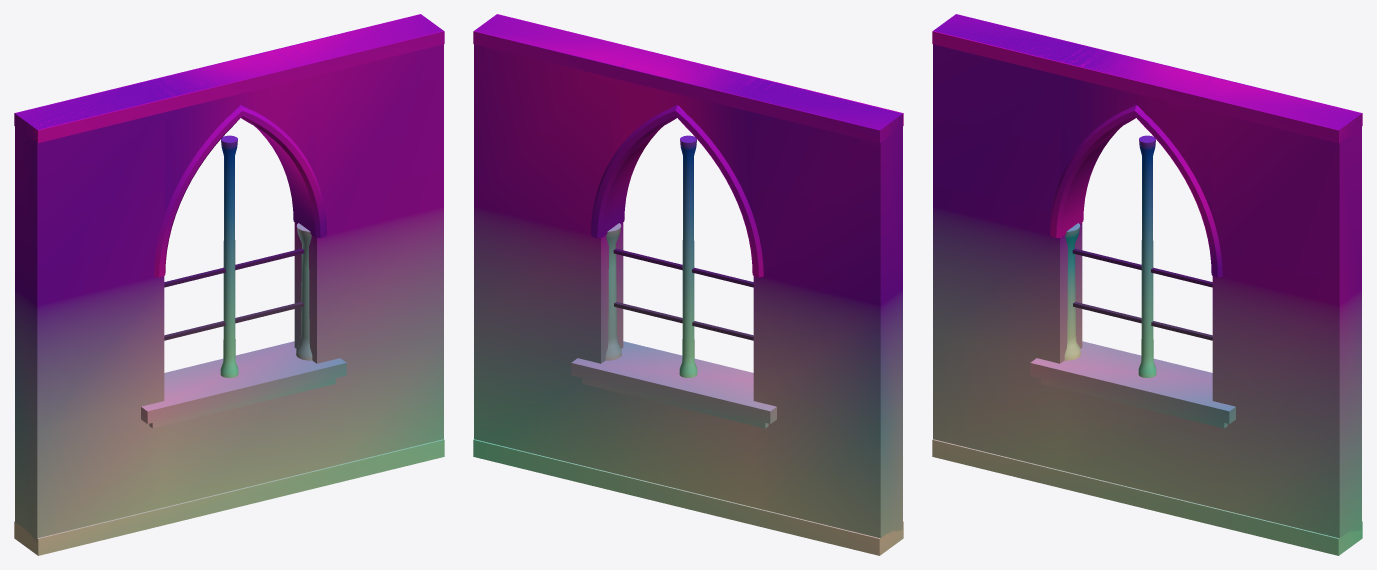
Rendered from window_lancet_4m.glb.
The picture shows the model from 3 angles, left to right: view 1: azimuth 30°, elevation 25°; view 2: azimuth 150°, elevation 25°; view 3: azimuth 330°, elevation 25°; orthographic projection.
Parts seen in each view (by area): view 1: window_wall, window_sill, window_archivolt, colonnette.002, window_bars, colonnette.001; view 2: window_wall, window_sill, window_archivolt, colonnette.002, window_bars, colonnette.001; view 3: window_wall, window_sill, window_archivolt, colonnette.002, window_bars, colonnette.
Part boxes in pixels (x1,y1,x2,y2): window_wall: (15, 14, 443, 545); window_sill: (14, 14, 444, 555); window_archivolt: (154, 104, 326, 277); colonnette.002: (220, 135, 238, 377); window_bars: (164, 248, 304, 340); colonnette.001: (296, 223, 312, 360); window_wall: (474, 14, 902, 538); window_sill: (473, 14, 903, 555); window_archivolt: (591, 104, 763, 277); colonnette.002: (679, 135, 697, 377); window_bars: (613, 248, 753, 340); colonnette.001: (605, 223, 621, 360); window_wall: (933, 14, 1361, 538); window_sill: (932, 14, 1362, 555); window_archivolt: (1050, 104, 1222, 277); colonnette.002: (1138, 135, 1156, 377); window_bars: (1072, 248, 1212, 340); colonnette: (1064, 223, 1080, 360).
Size of the model in its own units: 4 by 4 by 0.6.
